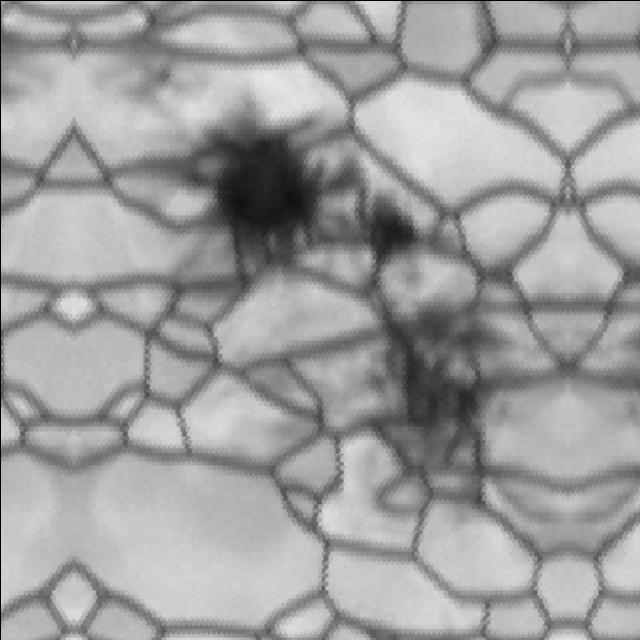good_void: (179, 95, 425, 302), (355, 290, 532, 541), (85, 33, 194, 117), (0, 33, 62, 115)
